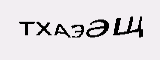Е: (93, 17, 113, 43)
Ж: (21, 12, 49, 35)
З: (80, 12, 93, 39)
Ф: (115, 16, 137, 47)
Щ: (47, 12, 81, 41)
